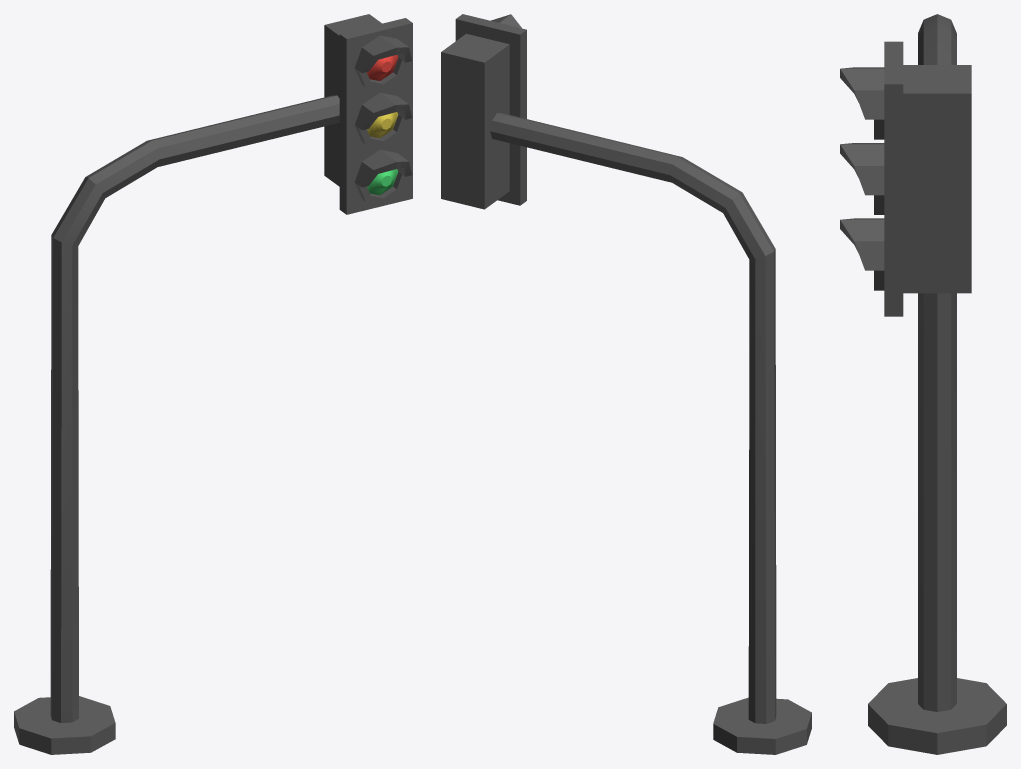
Rendered from traffic-lights-curved.fbx.
The picture shows the model from 3 angles, left to right: view 1: azimuth 30°, elevation 25°; view 2: azimuth 150°, elevation 25°; view 3: azimuth 270°, elevation 25°; orthographic projection. The views are drawn at different scales.
Parts seen in each view (by area): view 1: 4. traffic-lights-curved; view 2: 4. traffic-lights-curved; view 3: 4. traffic-lights-curved.
Part boxes in pixels (x1,y1,x2,y2): 4. traffic-lights-curved: [14, 14, 412, 754]; 4. traffic-lights-curved: [441, 14, 811, 754]; 4. traffic-lights-curved: [840, 14, 1006, 754].
Bounding box in the file's own units: 2.88 × 4.75 × 0.8409.
